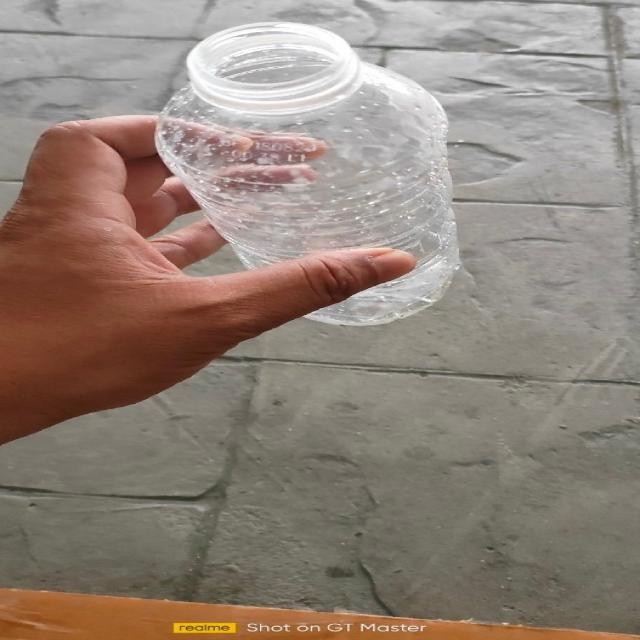plastic_bottle: (154, 22, 460, 325)
